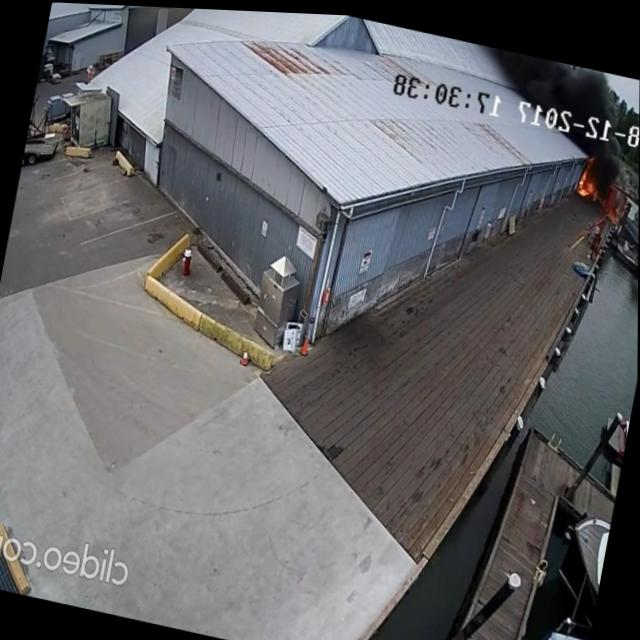fire: (573, 146, 609, 202)
